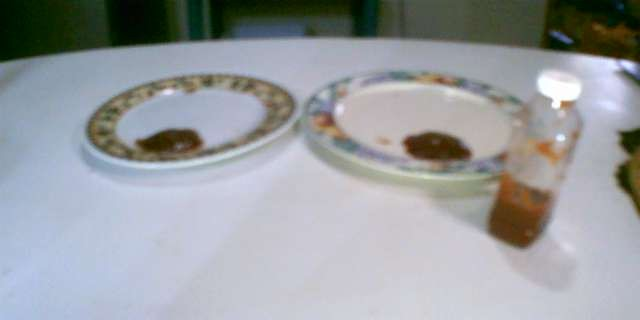ketchup_bottle: (486, 63, 587, 252)
ketchup_portion: (399, 126, 476, 164), (131, 123, 205, 158)
